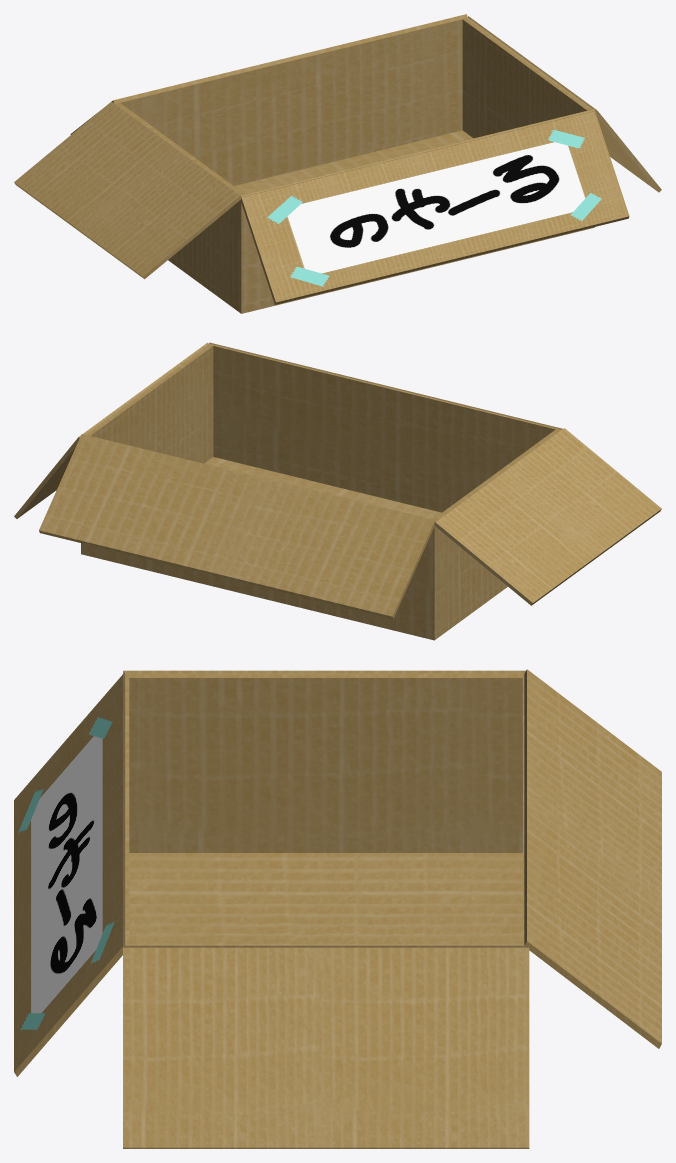
The model's file is Cardboard_MsgD.fbx.
3 renders of one model, top to bottom at view 1: azimuth 30°, elevation 25°; view 2: azimuth 150°, elevation 25°; view 3: azimuth 270°, elevation 25°, orthographic. The views are drawn at different scales.
Parts seen in each view (by area): view 1: Cardboard_MsgDtype; view 2: Cardboard_MsgDtype; view 3: Cardboard_MsgDtype.
Boxes of the visible parts, x1,y1,x2,y2 form: Cardboard_MsgDtype: (14,14,661,313); Cardboard_MsgDtype: (14,342,661,640); Cardboard_MsgDtype: (14,669,661,1148).
Bounding box in the file's own units: 465 × 103 × 319.
